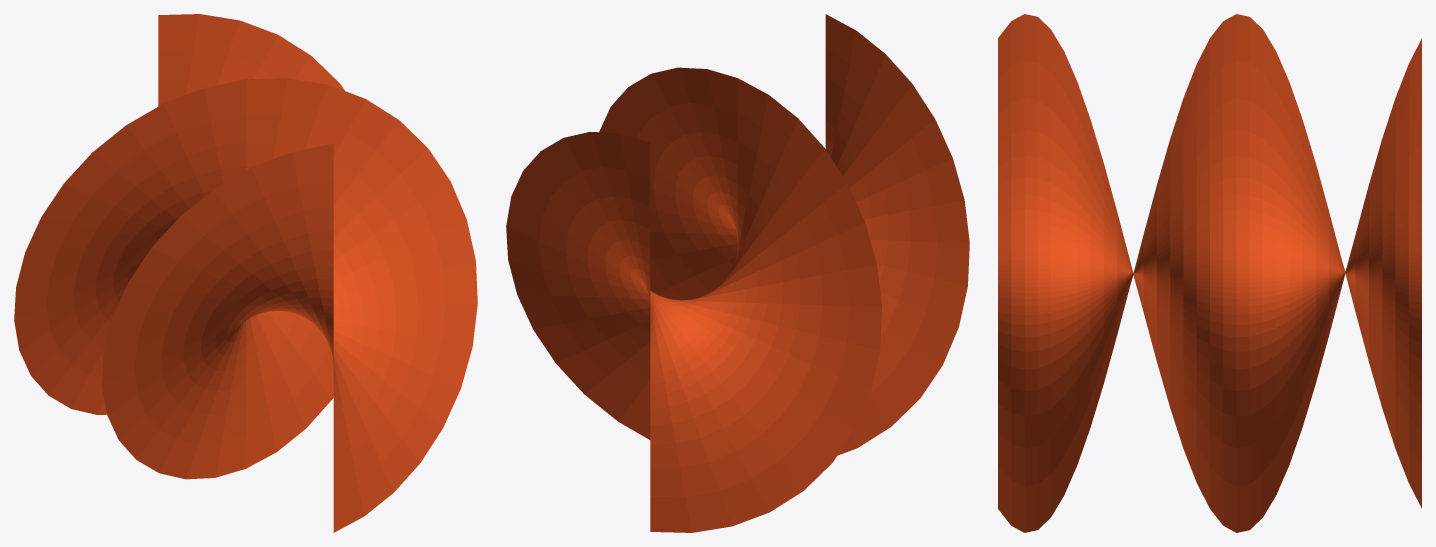
The model's file is spiral.glb.
3 views of the same model, side by side, from view 1: azimuth 30°, elevation 25°; view 2: azimuth 150°, elevation 25°; view 3: azimuth 270°, elevation 25° (orthographic). The views are drawn at different scales.
Parts seen in each view (by area): view 1: XYZ Function; view 2: XYZ Function; view 3: XYZ Function.
Boxes of the visible parts, left/top/right/bottom form: XYZ Function: left=14, top=14, right=477, bottom=532; XYZ Function: left=506, top=14, right=969, bottom=532; XYZ Function: left=998, top=14, right=1421, bottom=532.
Bounding box in the file's own units: 23.1 × 23.1 × 18.85.
